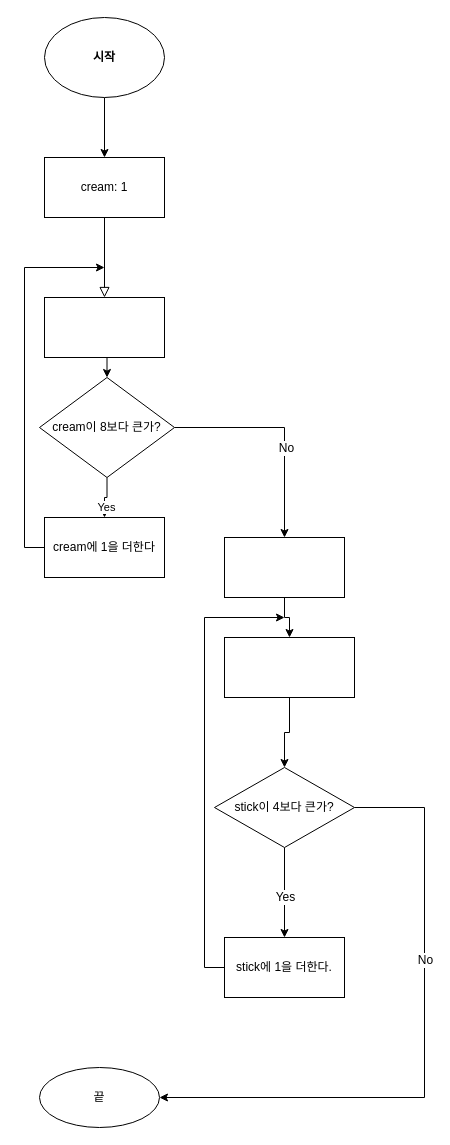
Image size: 450x1145. Some labels were removed from this diagram. The shapes that lost their labels are listed below. From the top down, each one's centre as x and y in pixels, then its label:
point 104,327: 함수 drawCream을 실행하여 "***********" 출력한다.
point 284,567: stick: 1
point 289,667: 함수 drawStick을 실행하여 " | | " 출력한다.
